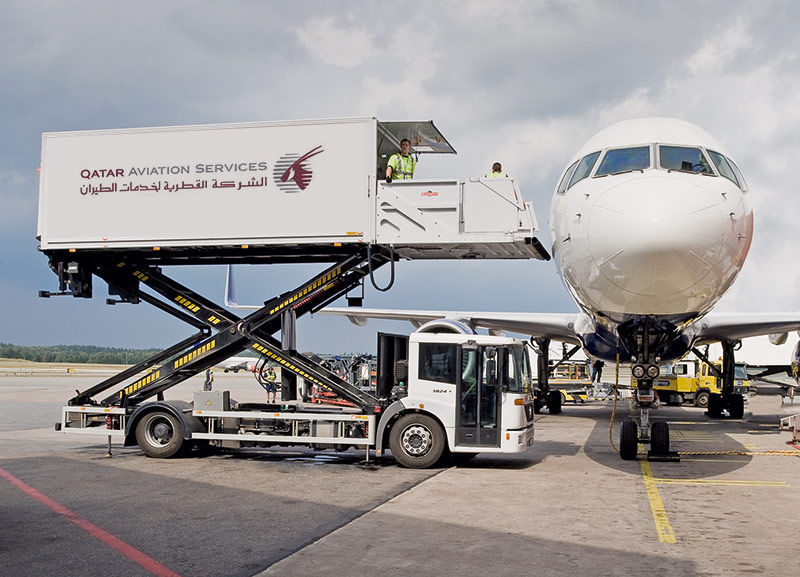Catering truck: (28, 105, 565, 480)
